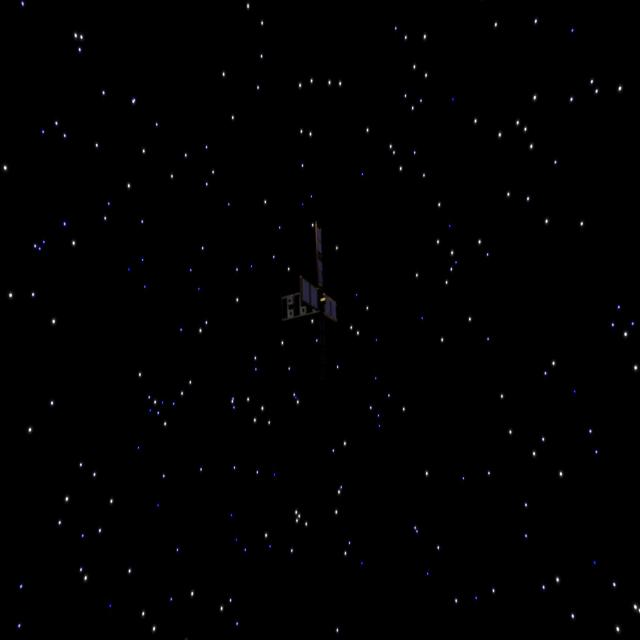satellite: (277, 231, 363, 346)
